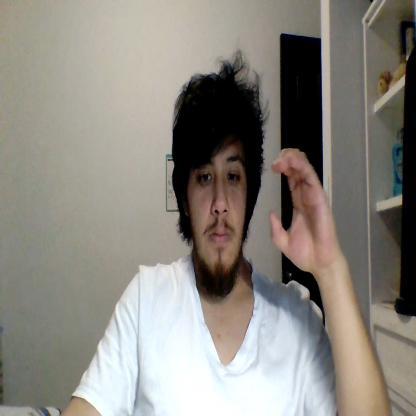C: (270, 149, 336, 272)
